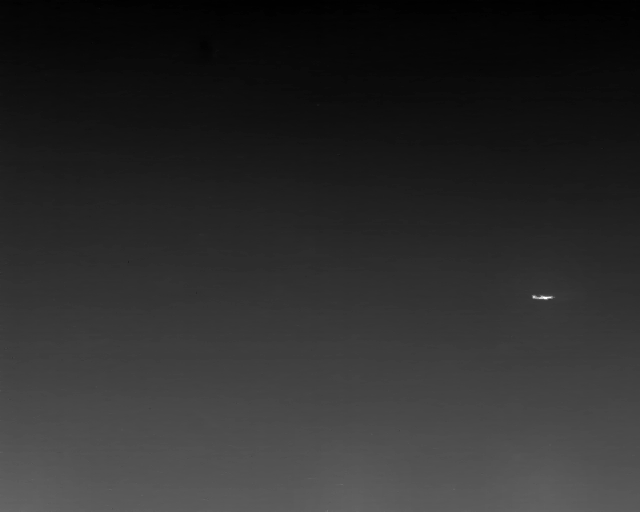Target: (531, 294, 554, 299)
